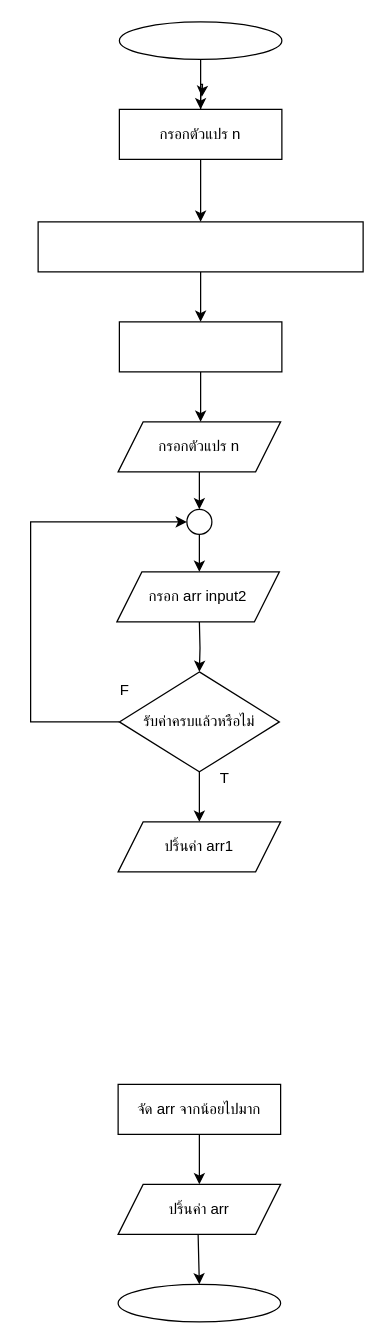
The diagram is 385 pixels wide and 1344 high, and some of its shapes have lost their labels. Here are the shapes that lost their labels. From the top down, the centre of each, then its label:
At [200,40]: "Start".
At [200,246]: "กำหนดตัวแปร arr input1 = 9 2 6 1 7".
At [200,346]: "กำหนดตัวแปร arr input2".
At [199,1302]: "END".
